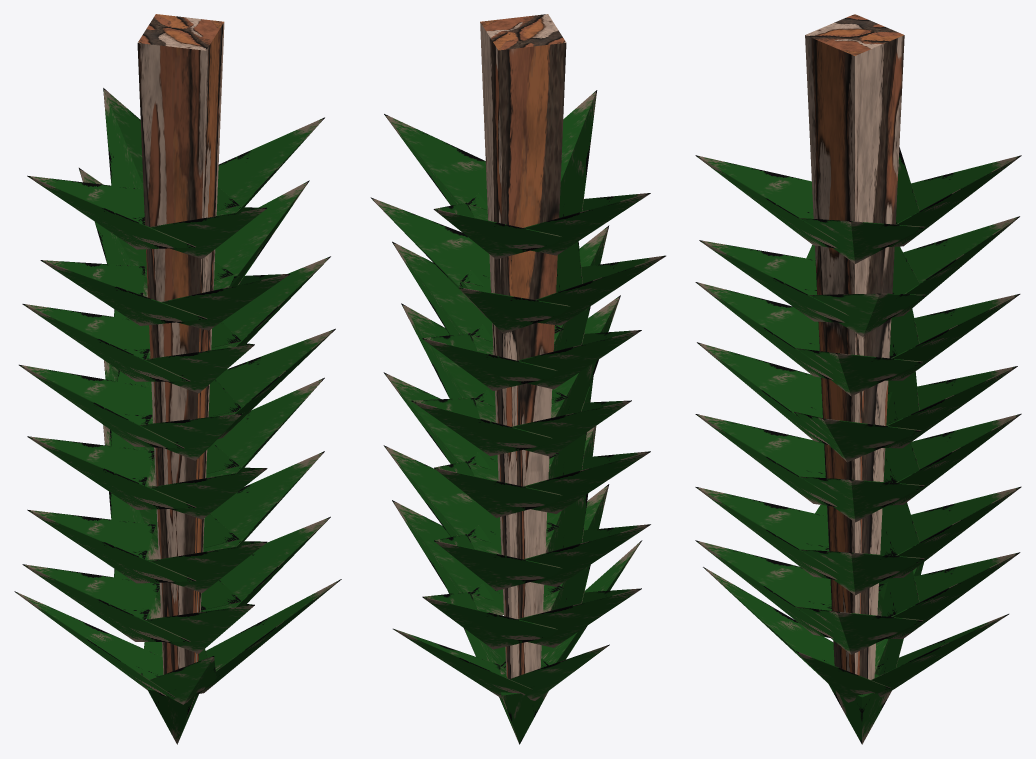
The model's file is mod_natural_tree5_terrain.fbx.
The picture shows the model from 3 angles, left to right: view 1: azimuth 30°, elevation 25°; view 2: azimuth 150°, elevation 25°; view 3: azimuth 270°, elevation 25°; orthographic projection.
Visible parts, largest first — view 1: mesh_tree5_trunk; view 2: mesh_tree5_trunk; view 3: mesh_tree5_trunk.
Part boxes in pixels (box(x1,y1,x2,y2)): mesh_tree5_trunk: box(14, 14, 341, 744); mesh_tree5_trunk: box(370, 14, 665, 744); mesh_tree5_trunk: box(695, 14, 1021, 744).
Size of the model in its own units: 4464 by 10712 by 4464.
